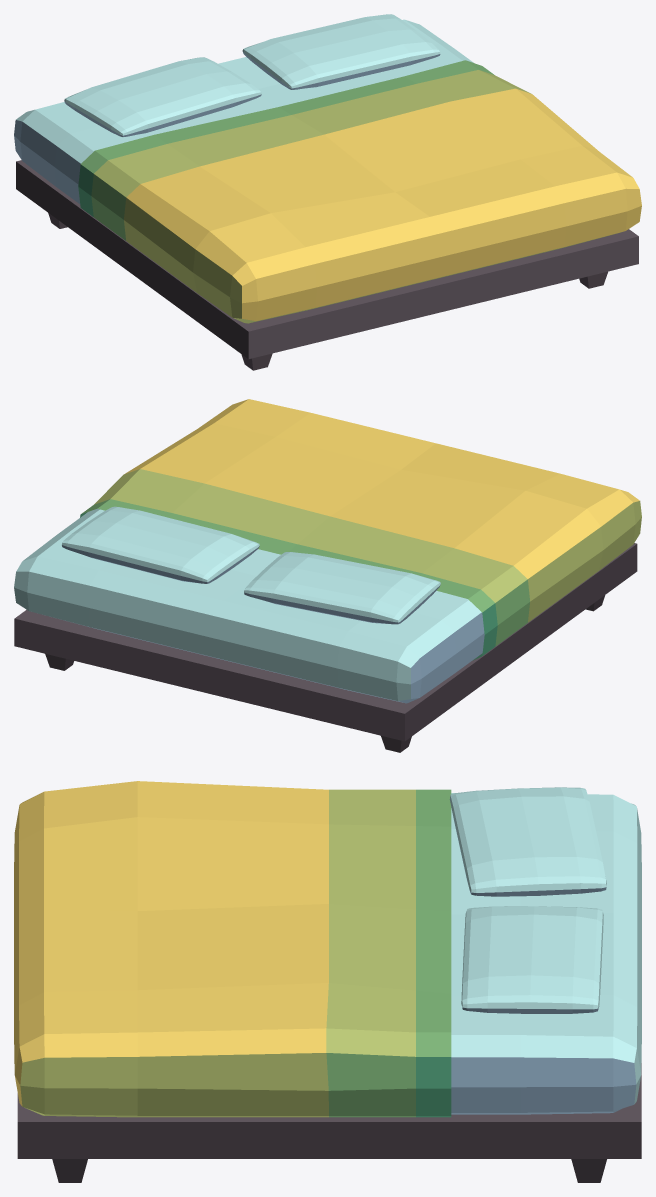
Rendered from Bed V2 Double.fbx.
3 renders of one model, top to bottom at view 1: azimuth 30°, elevation 25°; view 2: azimuth 150°, elevation 25°; view 3: azimuth 270°, elevation 25°, orthographic. The views are drawn at different scales.
Parts seen in each view (by area): view 1: Bed V2 Double; view 2: Bed V2 Double; view 3: Bed V2 Double.
Boxes of the visible parts, x1,y1,x2,y2 form: Bed V2 Double: (14,14,641,370); Bed V2 Double: (14,399,641,752); Bed V2 Double: (14,781,641,1182).
Size of the model in its own units: 470 by 147 by 460.
